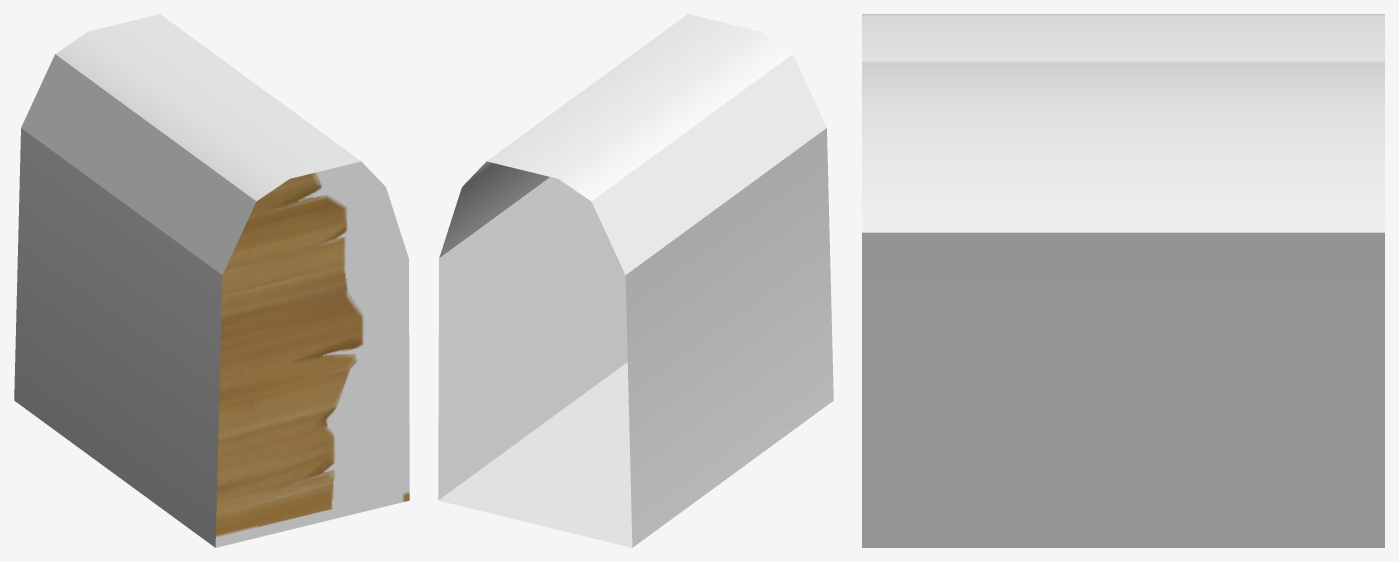
File: Roca_03.fbx
3 views of the same model, side by side, from view 1: azimuth 30°, elevation 25°; view 2: azimuth 150°, elevation 25°; view 3: azimuth 270°, elevation 25° (orthographic). The views are drawn at different scales.
Parts seen in each view (by area): view 1: Roca_03; view 2: Roca_03; view 3: Roca_03.
Part boxes in pixels (box(x1,y1,x2,y2)): Roca_03: box(14, 14, 409, 547); Roca_03: box(438, 14, 833, 547); Roca_03: box(862, 14, 1384, 547).
Size of the model in its own units: 3.08 by 5.32 by 5.53.
